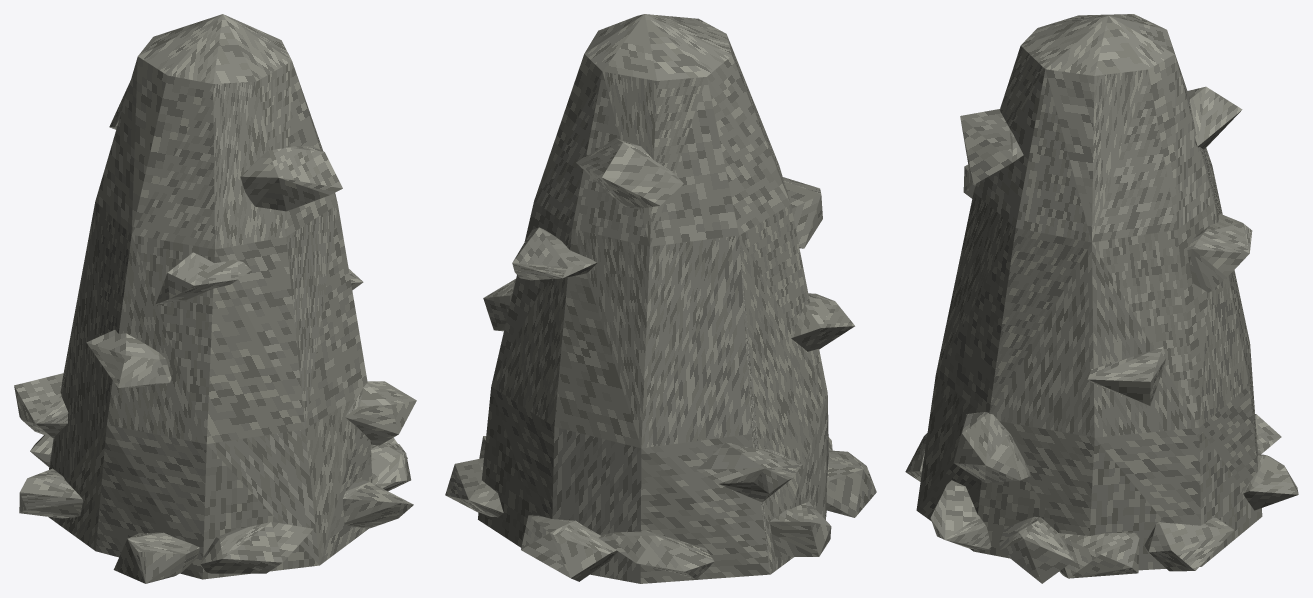
Rendered from f_rock_large_mound_mid.glb.
3 renders of one model, left to right at view 1: azimuth 30°, elevation 25°; view 2: azimuth 150°, elevation 25°; view 3: azimuth 270°, elevation 25°, orthographic. The views are drawn at different scales.
Visible parts, largest first — view 1: block_heaped-rock_large, block_loose-rock_large (×10); view 2: block_heaped-rock_large, block_loose-rock_large (×11); view 3: block_heaped-rock_large, block_loose-rock_large (×11).
Boxes of the visible parts, x1,y1,x2,y2 form: block_heaped-rock_large: [48, 14, 372, 579]; block_loose-rock_large (×10): [14, 146, 416, 583]; block_heaped-rock_large: [478, 14, 828, 583]; block_loose-rock_large (×11): [445, 138, 876, 581]; block_heaped-rock_large: [916, 14, 1262, 570]; block_loose-rock_large (×11): [930, 86, 1298, 583].
Bounding box in the file's own units: 1.01 × 1.31 × 0.9463.
1 material, 1 textured.
